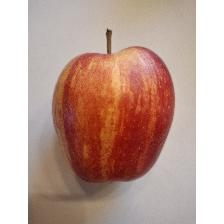Apfel: (51, 24, 177, 186)
